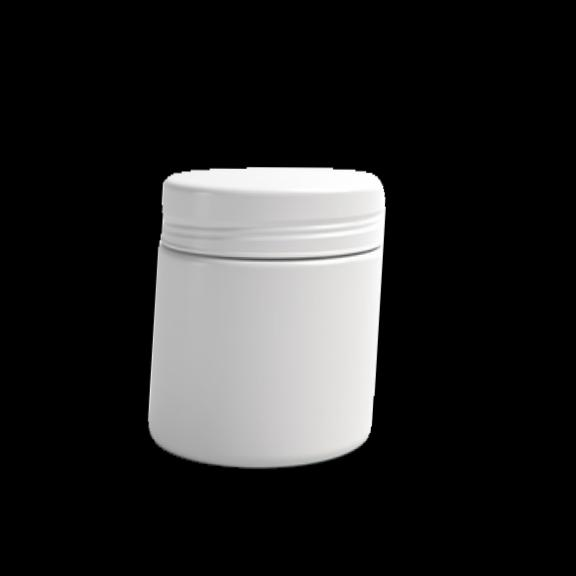Plastik: (139, 162, 397, 468)
